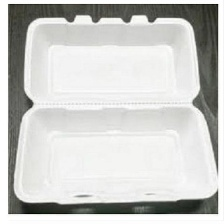foam_box: (10, 10, 218, 210)
